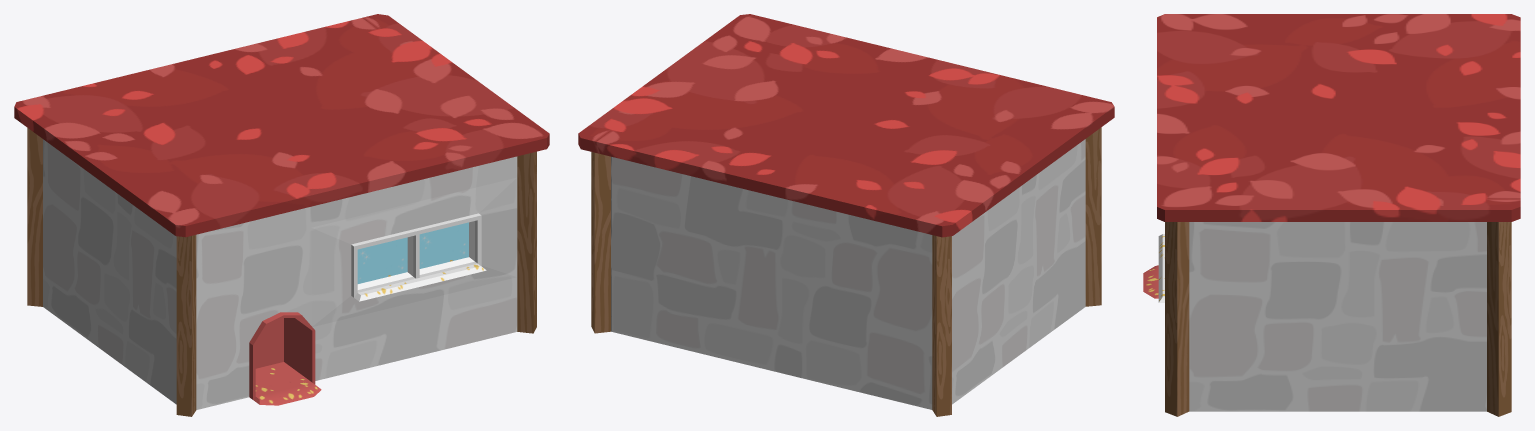
Rendered from house2.FBX.
3 renders of one model, left to right at view 1: azimuth 30°, elevation 25°; view 2: azimuth 150°, elevation 25°; view 3: azimuth 270°, elevation 25°, orthographic. The views are drawn at different scales.
Parts seen in each view (by area): view 1: Box001; view 2: Box001; view 3: Box001.
Part boxes in pixels (left/top/right/bottom): Box001: left=14, top=14, right=549, bottom=416; Box001: left=578, top=14, right=1114, bottom=416; Box001: left=1143, top=14, right=1520, bottom=416.
Size of the model in its own units: 189 by 94.4 by 153.
